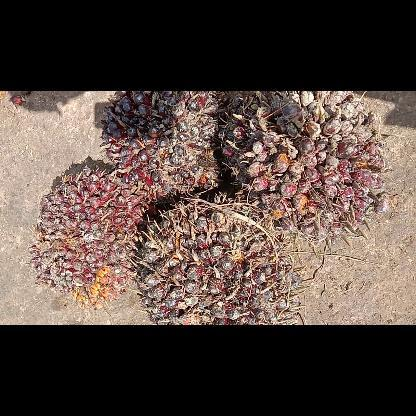Kurang masak: (219, 90, 391, 244), (142, 194, 304, 324), (31, 163, 161, 309), (102, 92, 226, 196)
